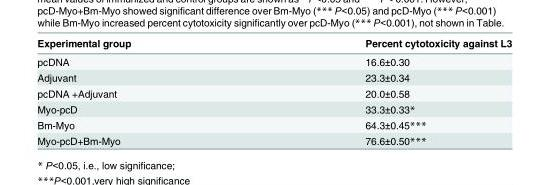table: (36, 36, 511, 146)
table column: (247, 36, 511, 146), (36, 36, 247, 146)
table column header: (36, 36, 511, 52)
table row: (36, 52, 511, 69), (36, 36, 511, 52), (36, 69, 511, 85), (36, 100, 511, 116), (36, 116, 511, 132), (36, 85, 511, 100), (36, 132, 511, 146)
